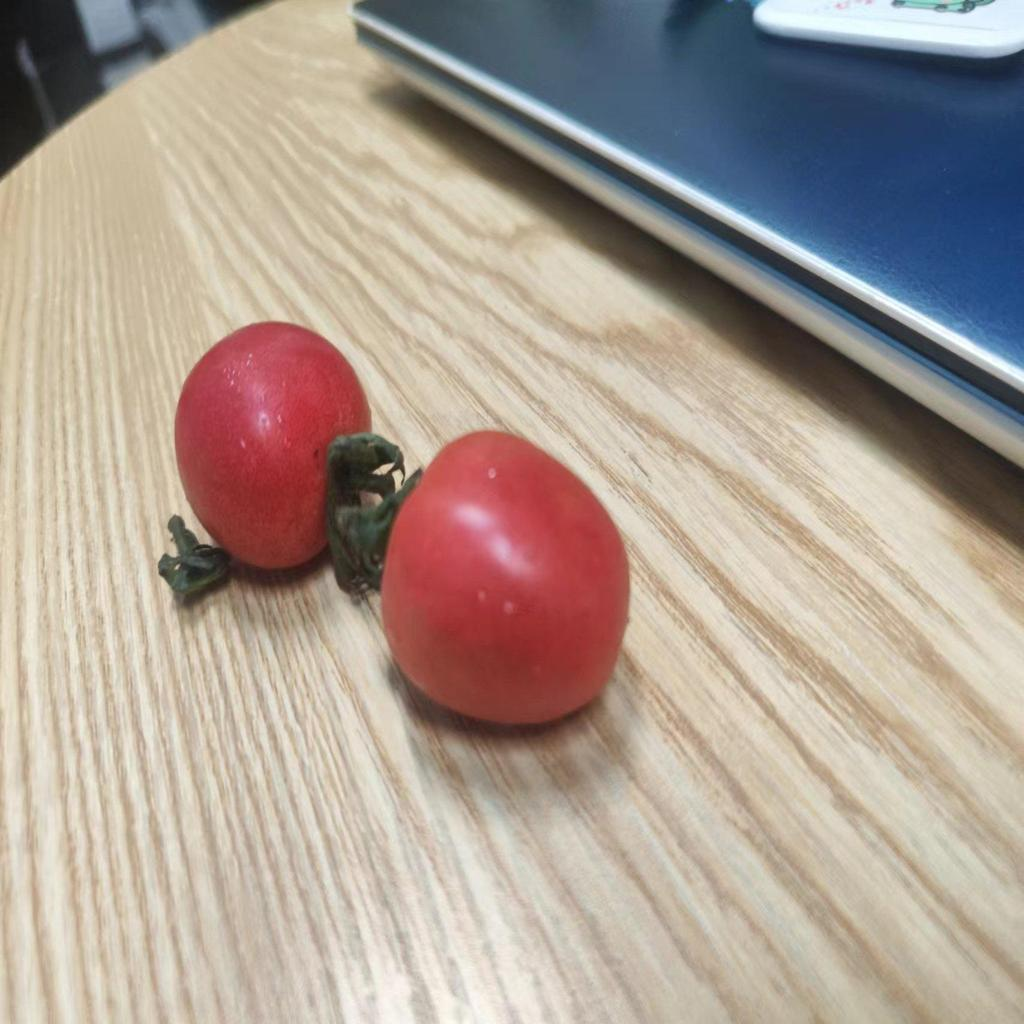tomato: (380, 432, 627, 728), (170, 325, 374, 579)
